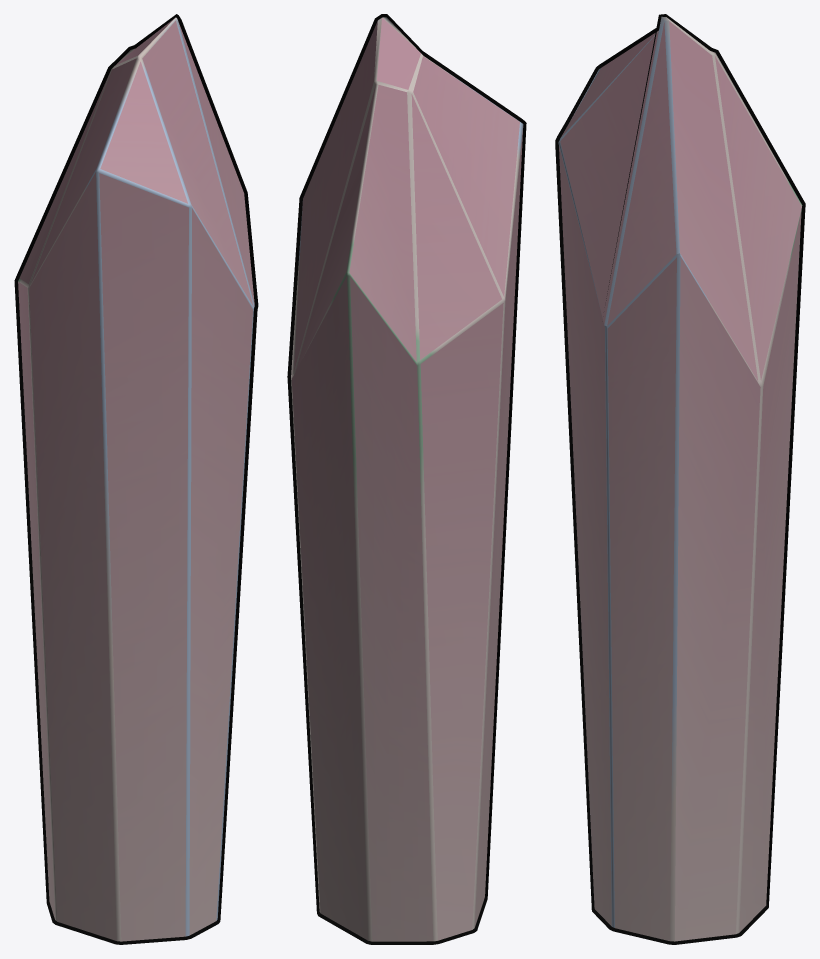
The model's file is Rooms_Paradise_Crystal_Small_04_Art.fbx.
The picture shows the model from 3 angles, left to right: view 1: azimuth 30°, elevation 25°; view 2: azimuth 150°, elevation 25°; view 3: azimuth 270°, elevation 25°; orthographic projection. The views are drawn at different scales.
Parts seen in each view (by area): view 1: Rooms_Paradise_Crystal_Small_04_Art, Rooms_Paradise_Crystal_Small_04_Outliner; view 2: Rooms_Paradise_Crystal_Small_04_Art, Rooms_Paradise_Crystal_Small_04_Outliner; view 3: Rooms_Paradise_Crystal_Small_04_Art, Rooms_Paradise_Crystal_Small_04_Outliner.
Boxes of the visible parts, box(x1,y1,x2,y2) form: Rooms_Paradise_Crystal_Small_04_Art: box(18, 17, 254, 941); Rooms_Paradise_Crystal_Small_04_Outliner: box(14, 14, 258, 944); Rooms_Paradise_Crystal_Small_04_Art: box(291, 17, 523, 941); Rooms_Paradise_Crystal_Small_04_Outliner: box(287, 14, 526, 944); Rooms_Paradise_Crystal_Small_04_Art: box(558, 16, 802, 941); Rooms_Paradise_Crystal_Small_04_Outliner: box(555, 14, 805, 944).
Size of the model in its own units: 68.7 by 273 by 68.07.
